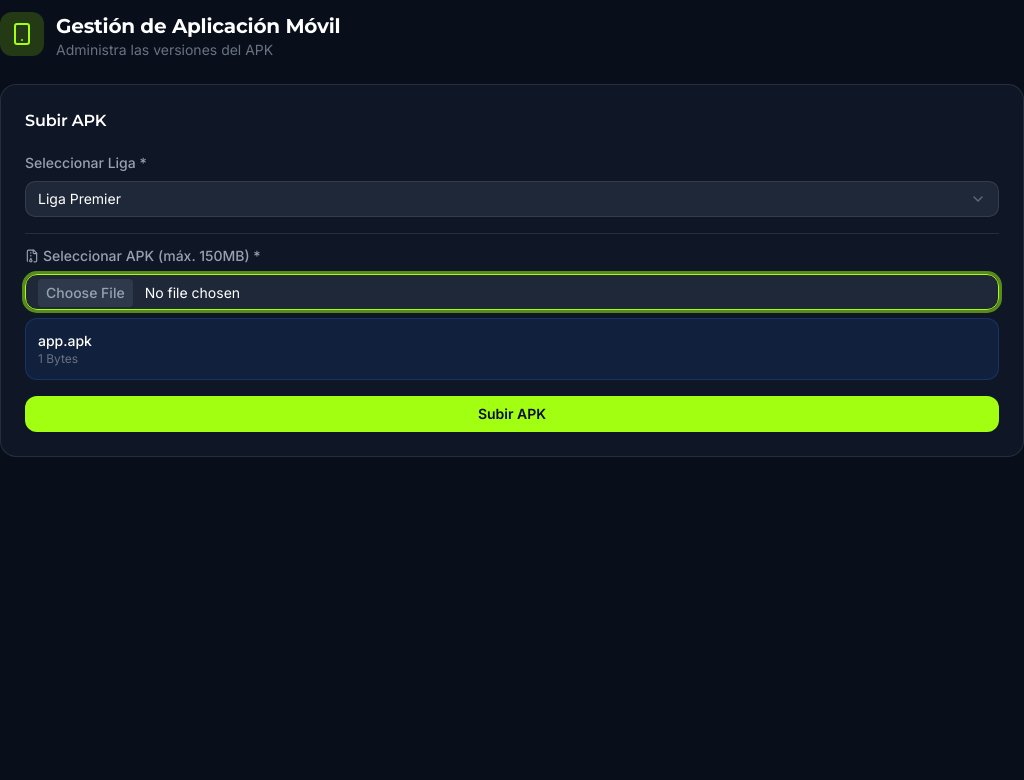
AppManagement › uploads the APK with scope app_releases and the league as scope_id
Earlier steps of the test are not shown.
Click the button "Subir APK". click: click(512, 414)
box: [25, 396, 999, 432]
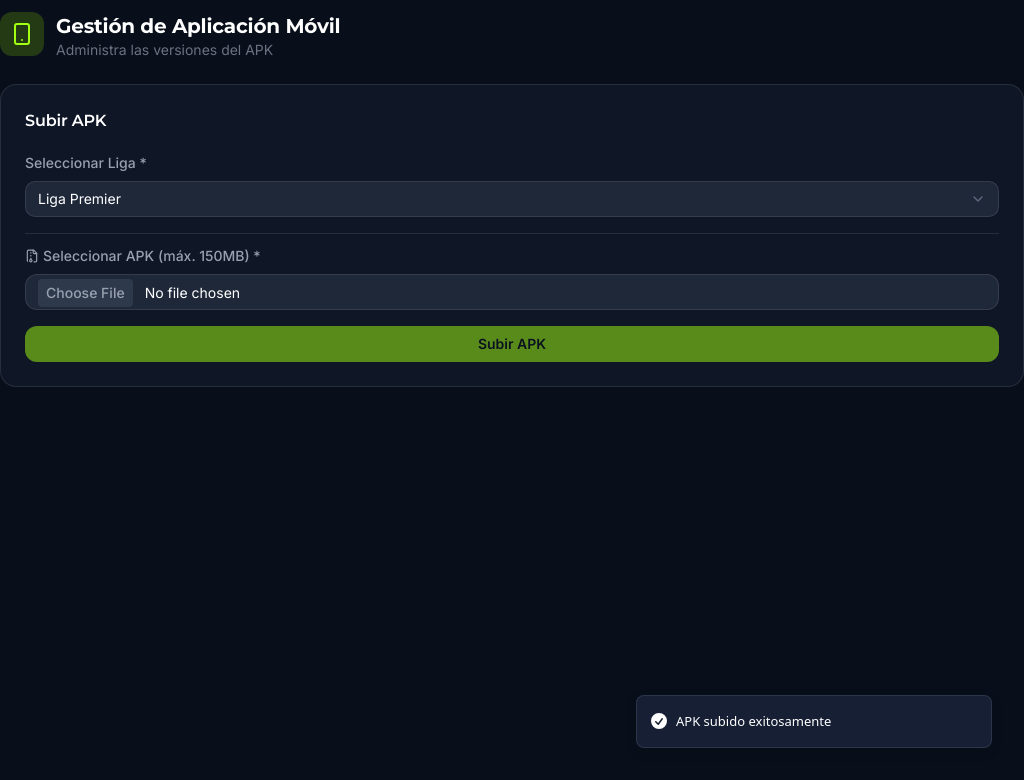
Now the text "APK subido exitosamente" is shown, box [676, 712, 831, 731]
